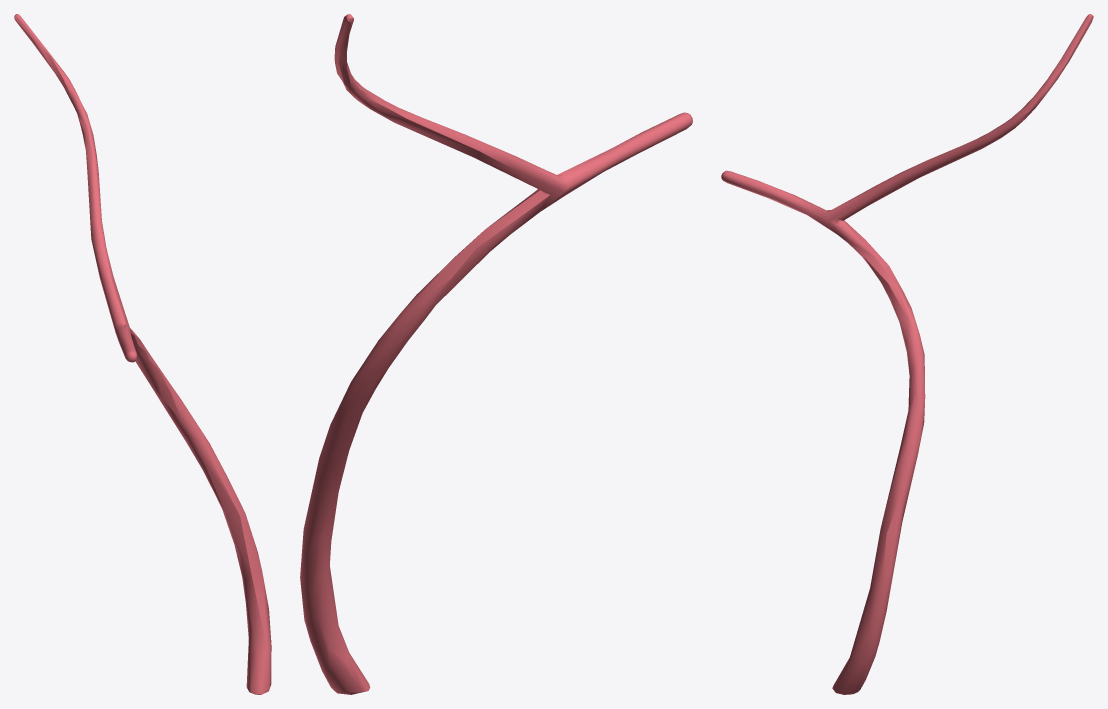
File: fma10683_fj2256.glb
3 renders of one model, left to right at view 1: azimuth 30°, elevation 25°; view 2: azimuth 150°, elevation 25°; view 3: azimuth 270°, elevation 25°, orthographic. The views are drawn at different scales.
Visible parts, largest first — view 1: FMA10683_FJ2256; view 2: FMA10683_FJ2256; view 3: FMA10683_FJ2256.
Boxes of the visible parts, bbox=[...] form: FMA10683_FJ2256: bbox=[14, 14, 271, 694]; FMA10683_FJ2256: bbox=[300, 14, 692, 694]; FMA10683_FJ2256: bbox=[721, 14, 1093, 694].
Bounding box in the file's own units: 0.0155 × 0.0429 × 0.0235.
